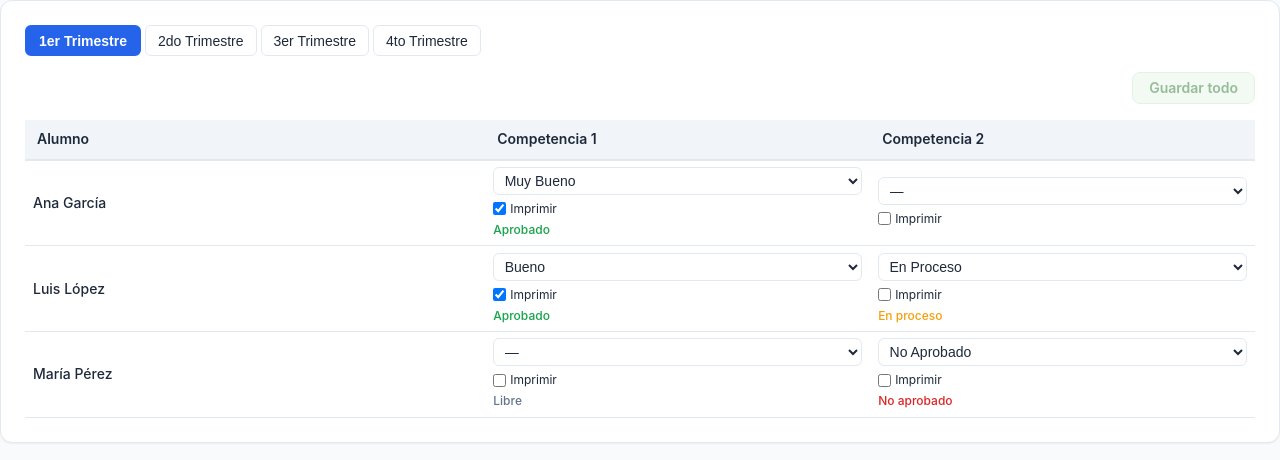
it: CGG-2: period navigation switches displayed period › clicking period 2 tab shows val-1:pi-2 (B) instead of val-1:pi-1 (MB)
Expected: the button "1er Trimestre" is shown, [25, 25, 141, 56]
Expected: the dropdown named "Calificación para s-1 en c-1" shows "Muy Bueno", [493, 167, 862, 195]
// Switch to period 2
Click the button "2do Trimestre" at {"x": 201, "y": 41}, box [145, 25, 257, 56]
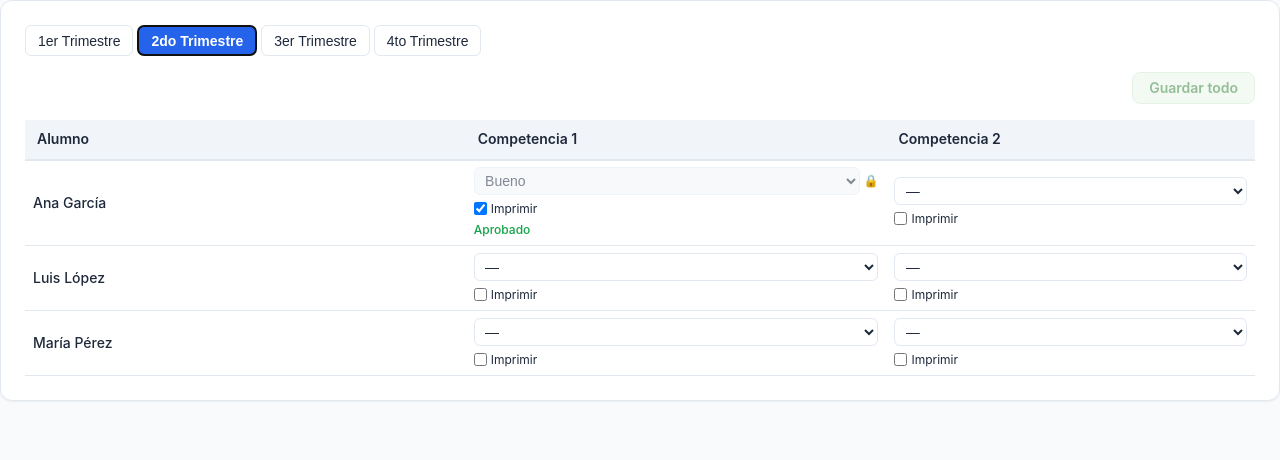
Expected: the dropdown named "Calificación para s-1 en c-1" shows "Bueno", [474, 167, 860, 195]
